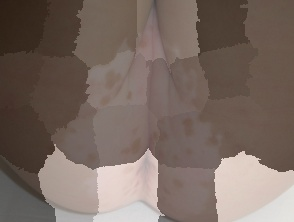vitiligo: (39, 0, 278, 222)
